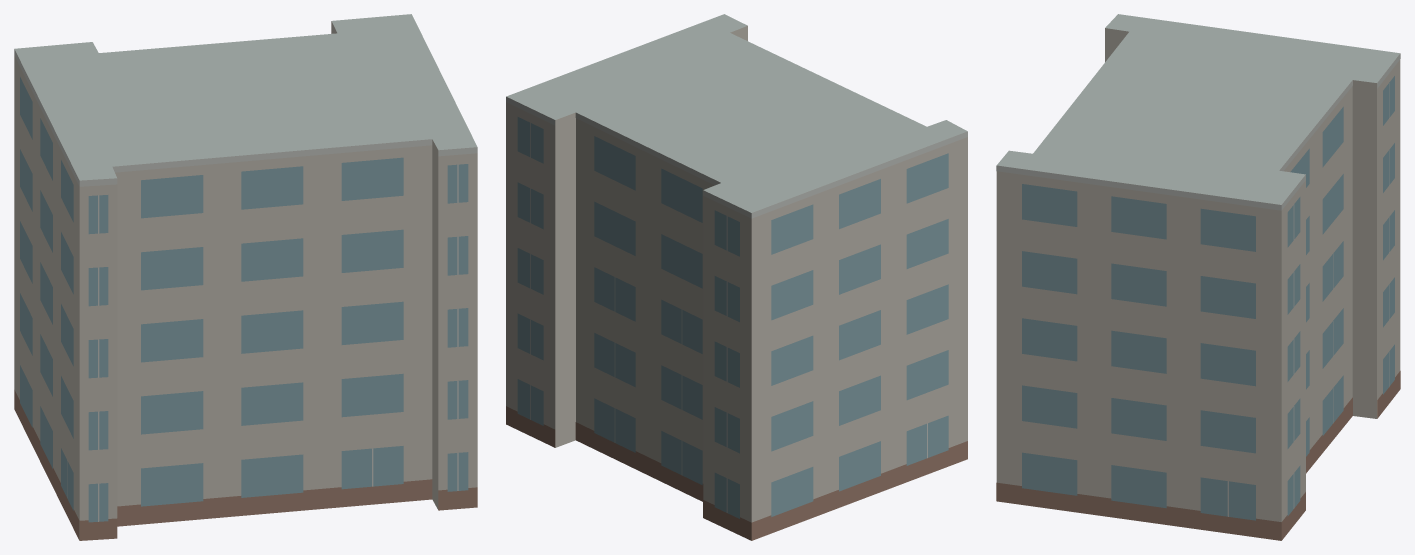
Rendered from survey-upis-32985967.glb.
The picture shows the model from 3 angles, left to right: view 1: azimuth 30°, elevation 25°; view 2: azimuth 150°, elevation 25°; view 3: azimuth 270°, elevation 25°; orthographic projection. The views are drawn at different scales.
Parts seen in each view (by area): view 1: survey-upis-32985967.tmp; view 2: survey-upis-32985967.tmp; view 3: survey-upis-32985967.tmp.
Boxes of the visible parts, box(x1,y1,x2,y2) form: survey-upis-32985967.tmp: box(14, 14, 477, 540); survey-upis-32985967.tmp: box(506, 14, 967, 540); survey-upis-32985967.tmp: box(996, 14, 1400, 540).
Bounding box in the file's own units: 17.45 × 14.3 × 15.6.
